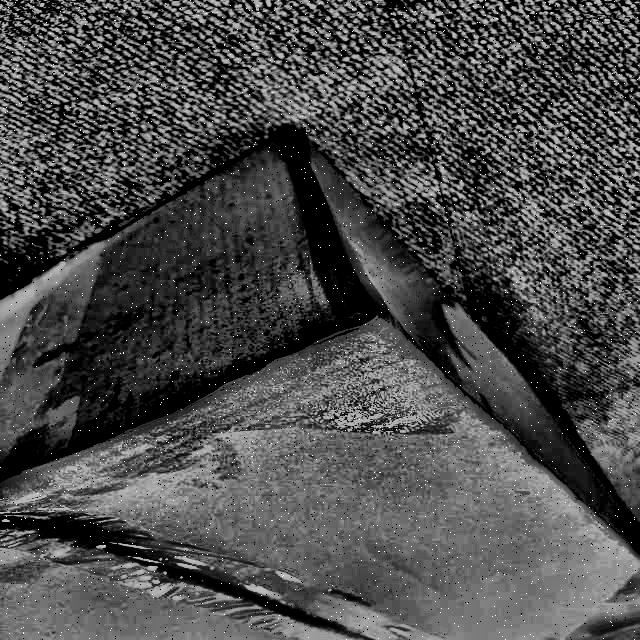box: (0, 117, 639, 640)
wet: (21, 141, 510, 491)
